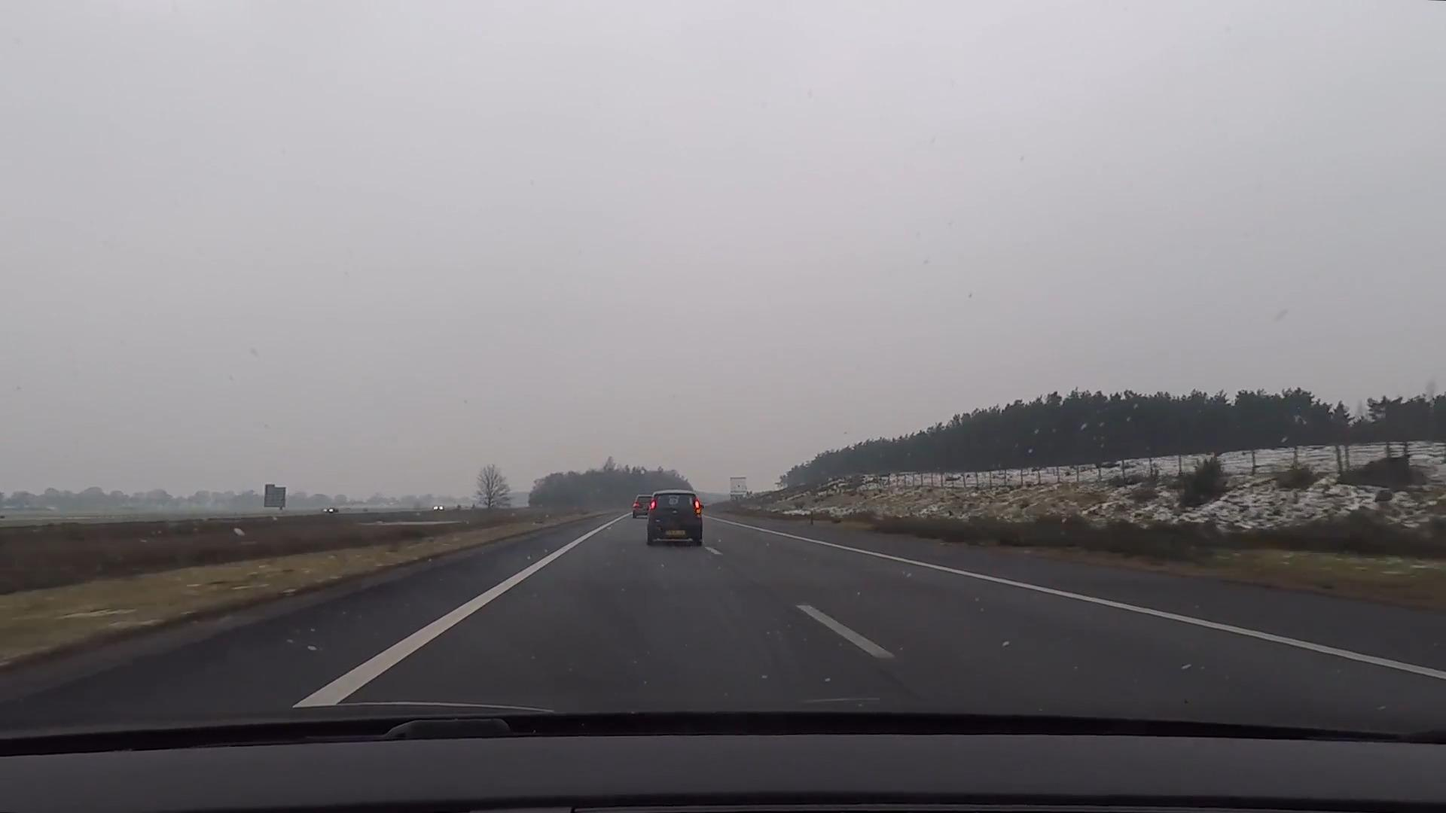dry: (0, 507, 1445, 733)
